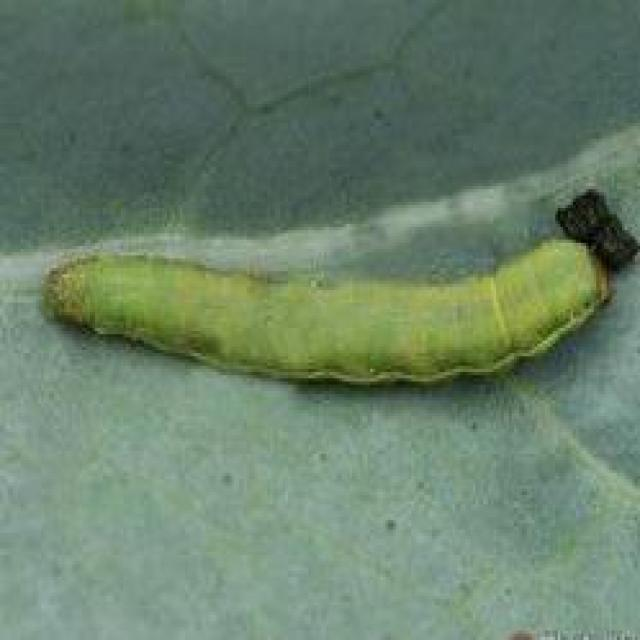BeetArmyWorm-Larva-: (41, 231, 617, 387)
